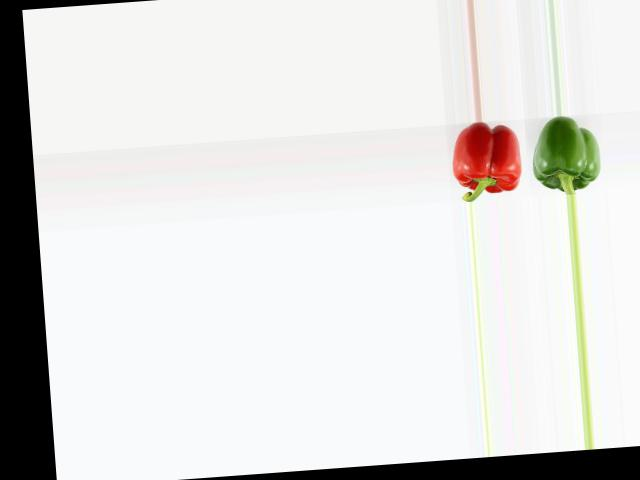bell_pepper: (526, 116, 604, 196)
